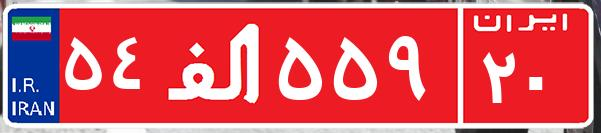0: (525, 38, 570, 115)
2: (475, 38, 525, 113)
4: (110, 28, 158, 105)
5: (273, 28, 330, 110), (330, 28, 385, 110), (57, 26, 110, 107)
9: (385, 28, 445, 110)
الف: (158, 15, 273, 115)
